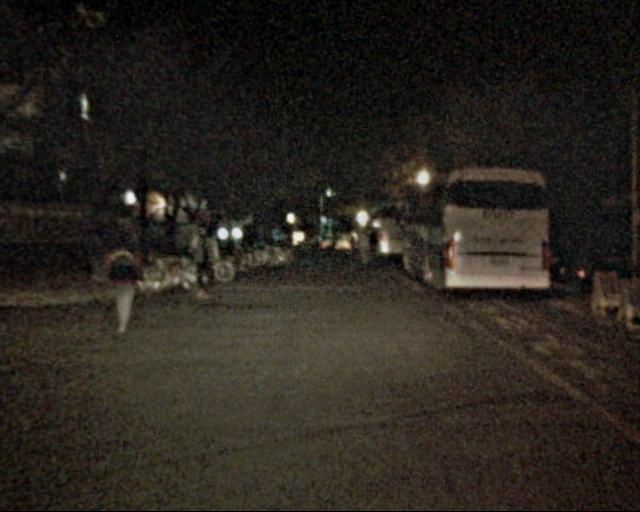person: (102, 223, 149, 336), (189, 221, 219, 295), (359, 229, 382, 266)
